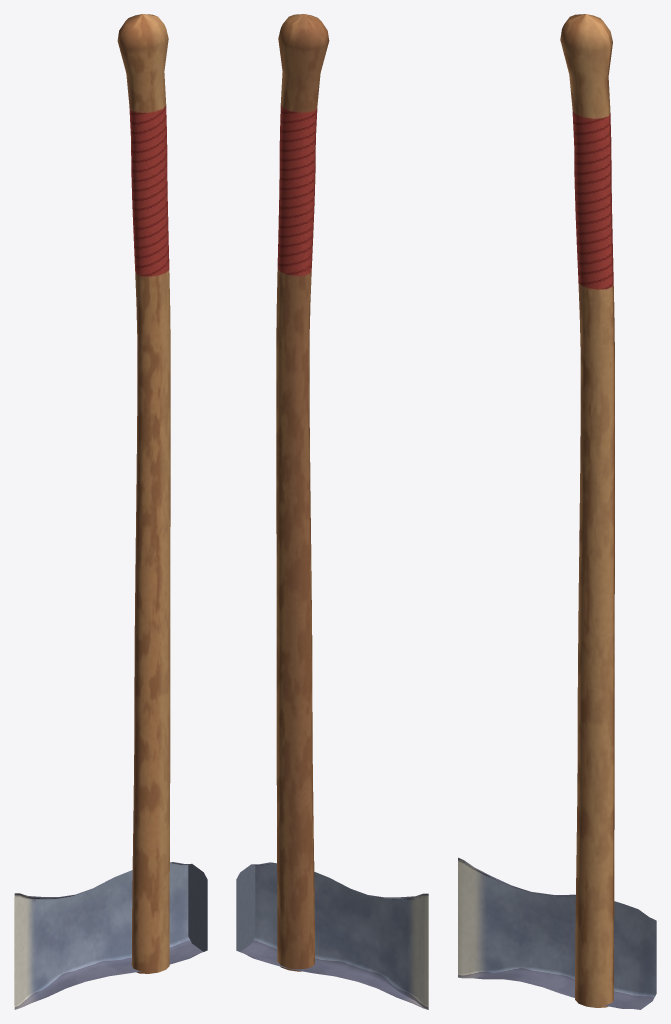
The model's file is axe.gltf.
3 views of the same model, side by side, from view 1: azimuth 30°, elevation 25°; view 2: azimuth 150°, elevation 25°; view 3: azimuth 330°, elevation 25° (orthographic). The views are drawn at different scales.
Parts seen in each view (by area): view 1: Mesh; view 2: Mesh; view 3: Mesh.
Boxes of the visible parts, box(x1,y1,x2,y2) form: Mesh: box(14, 14, 207, 1009); Mesh: box(236, 14, 428, 1009); Mesh: box(458, 14, 656, 1009).
Size of the model in its own units: 0.221 by 1.11 by 0.0474.
Materials: 1 (1 with a texture image).
